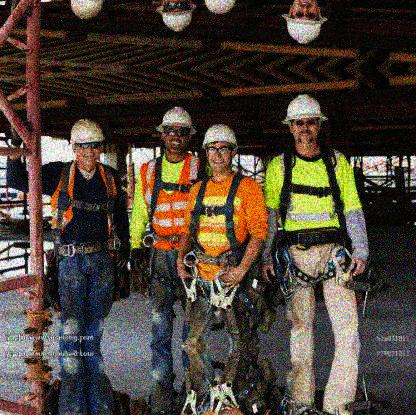helmet: (277, 93, 329, 150), (156, 107, 199, 157), (70, 118, 106, 173), (202, 123, 239, 173)
